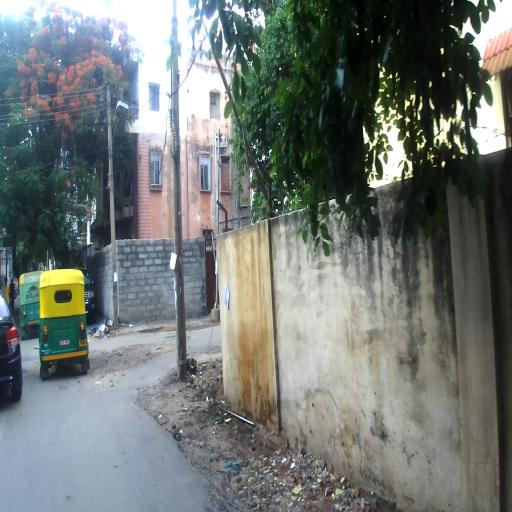street_light_0: (108, 98, 130, 179)
